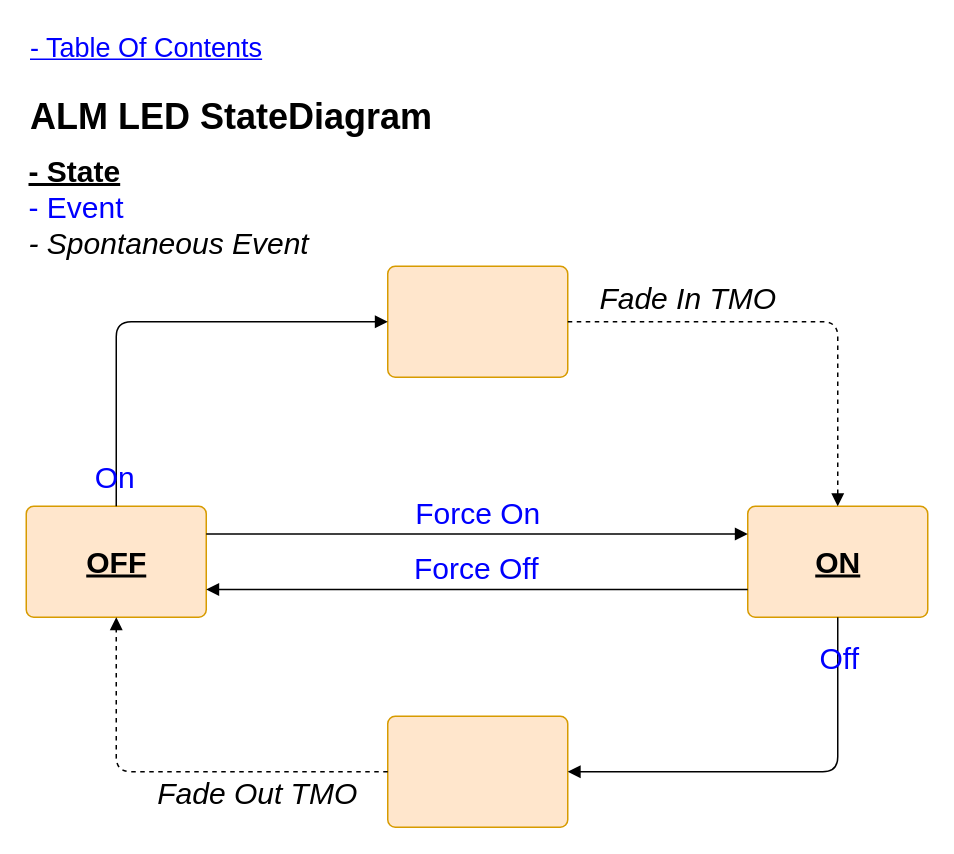
Image size: 954x854. Some labels were removed from this diagram. Each missing label, with the centre of its shape:
"Fade In" belongs at [477,321].
"Fade Out" belongs at [477,771].
